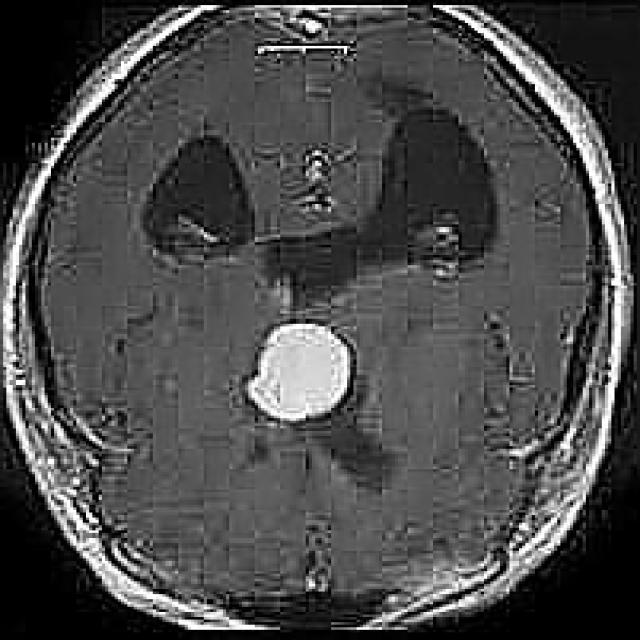Tumor-Cell: (231, 300, 352, 426)
